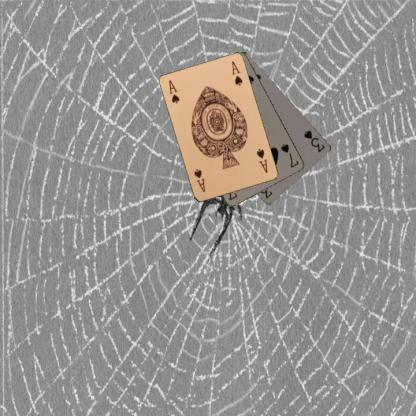3s: (302, 128, 326, 154)
7s: (278, 142, 300, 169)
As: (254, 146, 269, 175), (166, 78, 181, 105)
